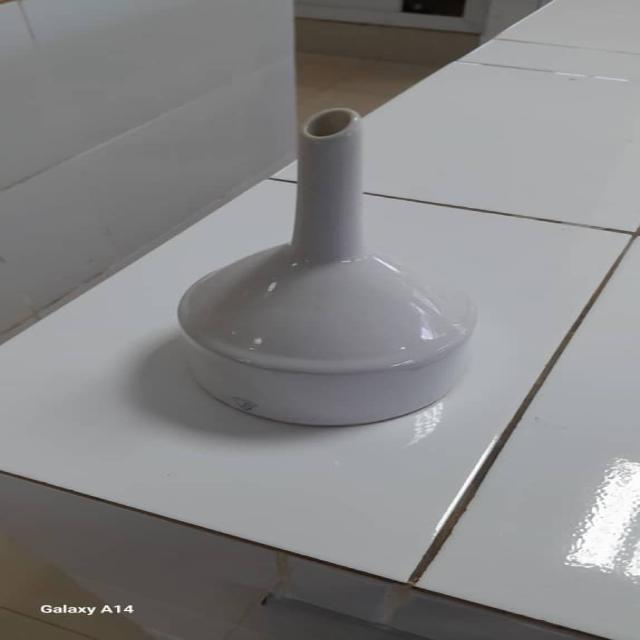Bunchen funnel: (172, 100, 498, 432)
